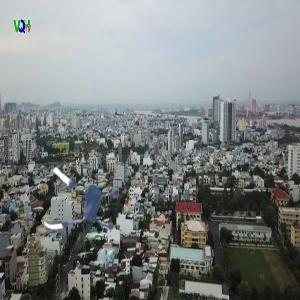drone: (37, 154, 133, 250)
